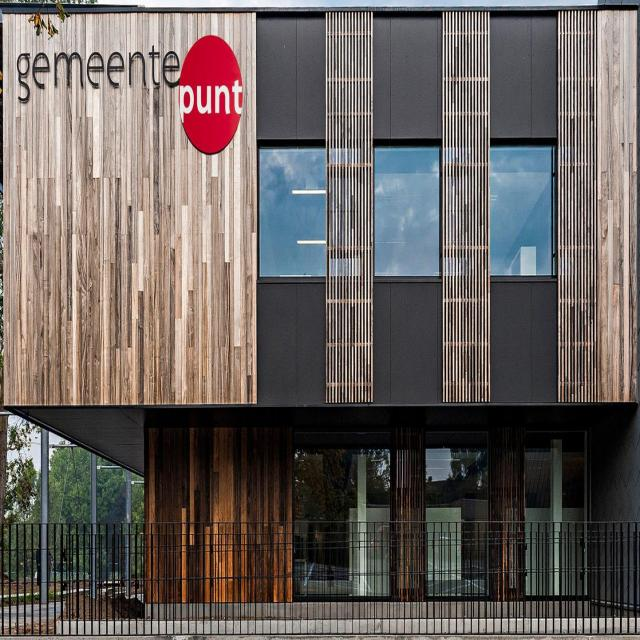Railing: (1, 520, 640, 637)
wall: (2, 0, 640, 639)
windows: (374, 146, 442, 275), (487, 144, 553, 276), (258, 150, 326, 276), (297, 447, 391, 519), (525, 446, 588, 518), (426, 450, 488, 517)
